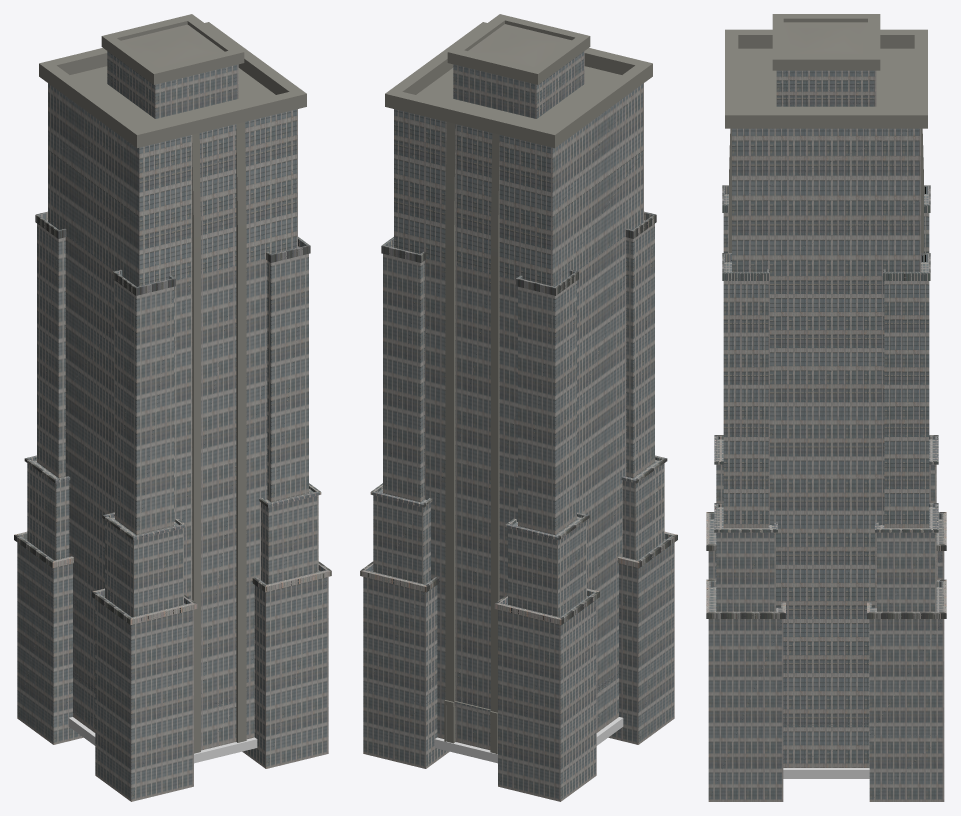
The model's file is SkyScraper2EMpireStateBuilding.fbx.
3 views of the same model, side by side, from view 1: azimuth 30°, elevation 25°; view 2: azimuth 150°, elevation 25°; view 3: azimuth 270°, elevation 25° (orthographic). The views are drawn at different scales.
Parts seen in each view (by area): view 1: BasePart, Bot_Side2, Top_Side2, Bot_Side, Spike, Top_Side1, Bot_Side3, Top_Side3, Mid_Side2, Mid_Side1, Mid_Side3, TileSize; view 2: BasePart, Bot_Side3, Top_Side3, Bot_Side4, Spike, Top_Side4, Bot_Side2, Top_Side2, Mid_Side3, Mid_Side4, Mid_Side2, TileSize; view 3: BasePart, Bot_Side, Bot_Side4, Top_Side1, Top_Side4, Spike, Mid_Side1, Mid_Side4, TileSize, Bot_Side2, Bot_Side3, Mid_Side2 (+1 smaller).
Part boxes in pixels (x1=…): BasePart: x1=39, y1=22, x2=306, y2=753; Bot_Side2: x1=92, y1=588, x2=197, y2=801; Top_Side2: x1=113, y1=269, x2=175, y2=535; Bot_Side: x1=242, y1=561, x2=331, y2=768; Spike: x1=101, y1=14, x2=244, y2=118; Top_Side1: x1=266, y1=237, x2=310, y2=502; Bot_Side3: x1=14, y1=531, x2=83, y2=744; Top_Side3: x1=35, y1=211, x2=66, y2=478; Mid_Side2: x1=102, y1=512, x2=186, y2=617; Mid_Side1: x1=259, y1=483, x2=321, y2=584; Mid_Side3: x1=24, y1=455, x2=70, y2=560; TileSize: x1=68, y1=717, x2=257, y2=763; BasePart: x1=385, y1=22, x2=652, y2=754; Bot_Side3: x1=494, y1=588, x2=599, y2=801; Top_Side3: x1=516, y1=269, x2=578, y2=535; Bot_Side4: x1=360, y1=561, x2=449, y2=768; Spike: x1=447, y1=14, x2=590, y2=118; Top_Side4: x1=381, y1=237, x2=425, y2=502; Bot_Side2: x1=608, y1=531, x2=677, y2=744; Top_Side2: x1=625, y1=211, x2=656, y2=478; Mid_Side3: x1=505, y1=512, x2=589, y2=617; Mid_Side4: x1=370, y1=483, x2=432, y2=584; Mid_Side2: x1=621, y1=455, x2=667, y2=560; TileSize: x1=434, y1=717, x2=623, y2=763; BasePart: x1=725, y1=29, x2=927, y2=767; Bot_Side: x1=706, y1=579, x2=785, y2=801; Bot_Side4: x1=867, y1=579, x2=946, y2=801; Top_Side1: x1=722, y1=253, x2=769, y2=528; Top_Side4: x1=883, y1=253, x2=930, y2=528; Spike: x1=772, y1=14, x2=880, y2=106; Mid_Side1: x1=714, y1=503, x2=777, y2=611; Mid_Side4: x1=875, y1=503, x2=938, y2=611; TileSize: x1=783, y1=768, x2=869, y2=778; Bot_Side2: x1=706, y1=512, x2=716, y2=579; Bot_Side3: x1=936, y1=512, x2=946, y2=579; Mid_Side2: x1=714, y1=435, x2=723, y2=502.
Size of the model in its own units: 2414 by 7925 by 2414.
Materials: 7 (6 with a texture image).
